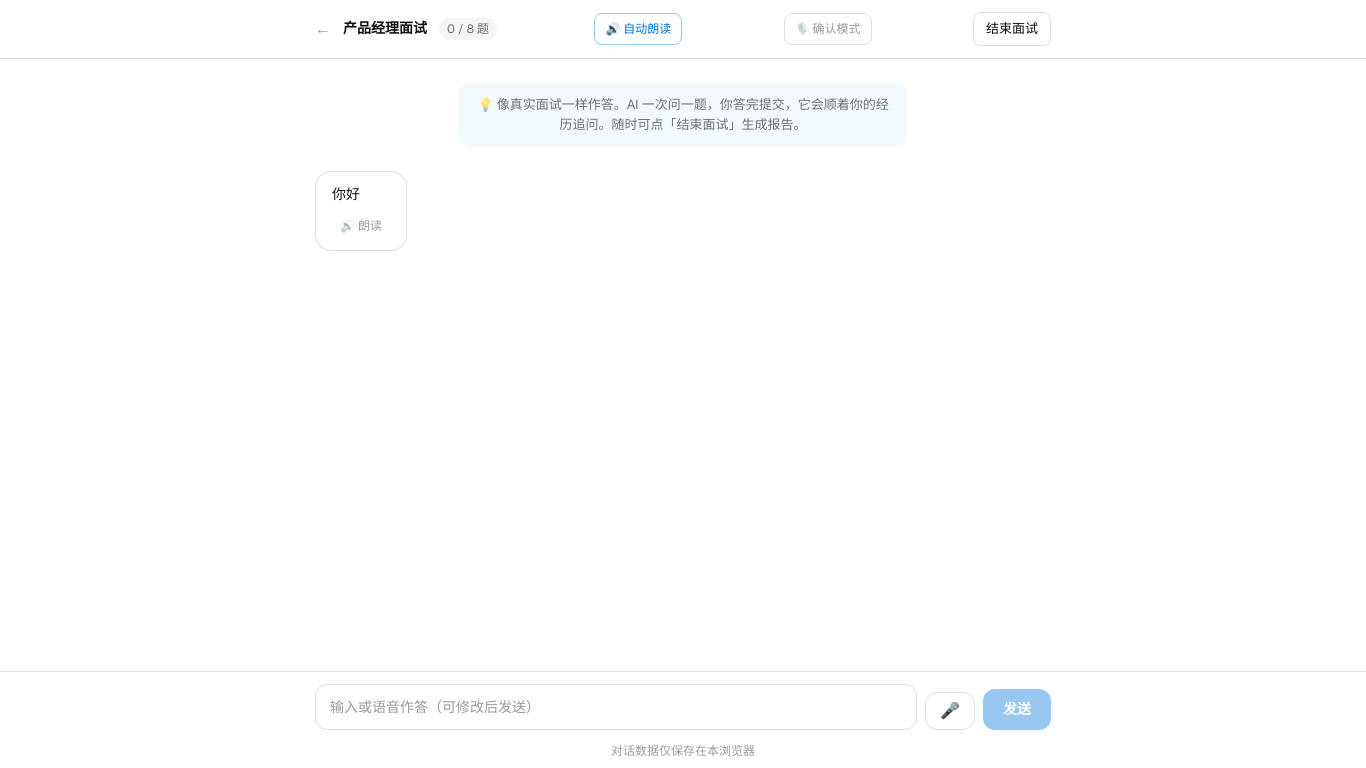
Test: InterviewPage › 语音识别失败（接口错误）→ notice 提示且不填入文本
Expected: the text "你好" is shown, x1=332 y1=184 x2=360 y2=202
Click the button with test id "mic-button": click(950, 711) x1=925 y1=692 x2=975 y2=730
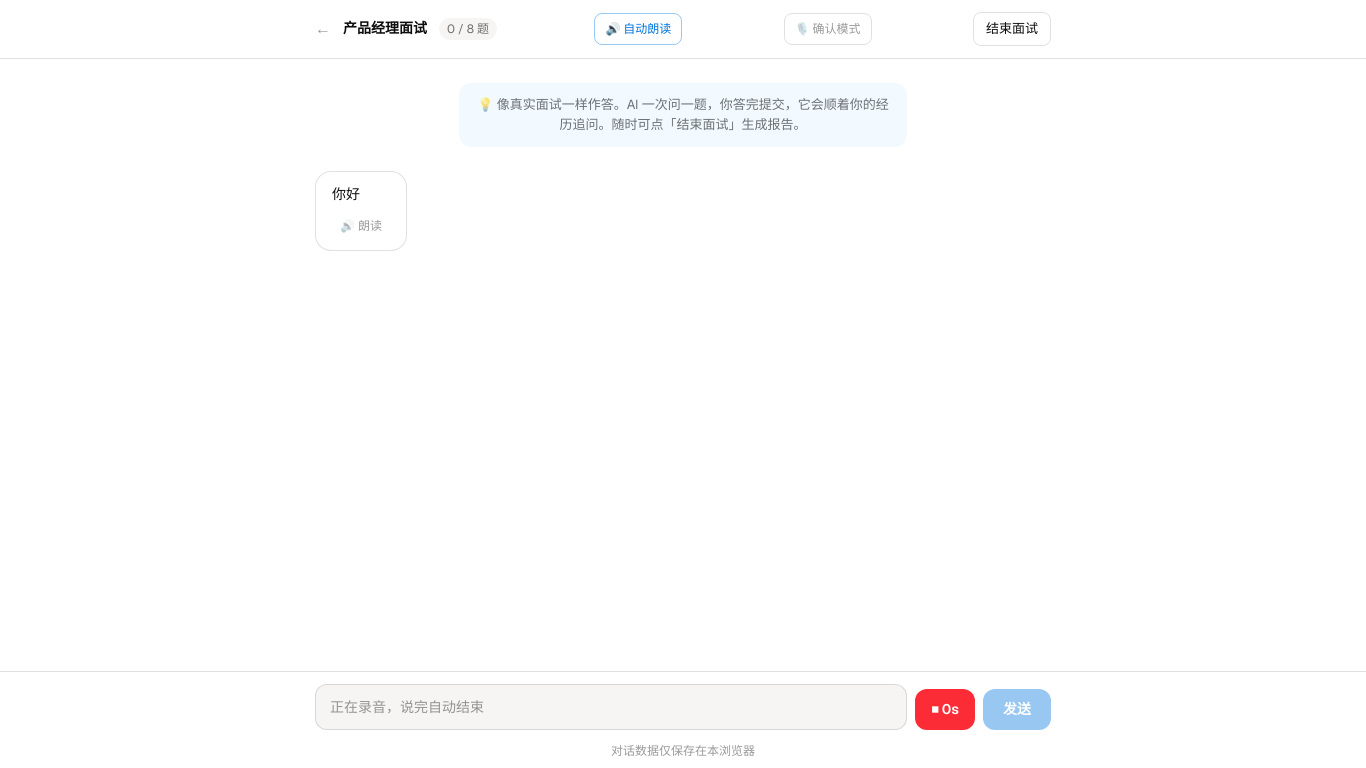
Click the button with test id "mic-stop-button": click(945, 710) x1=915 y1=689 x2=975 y2=730
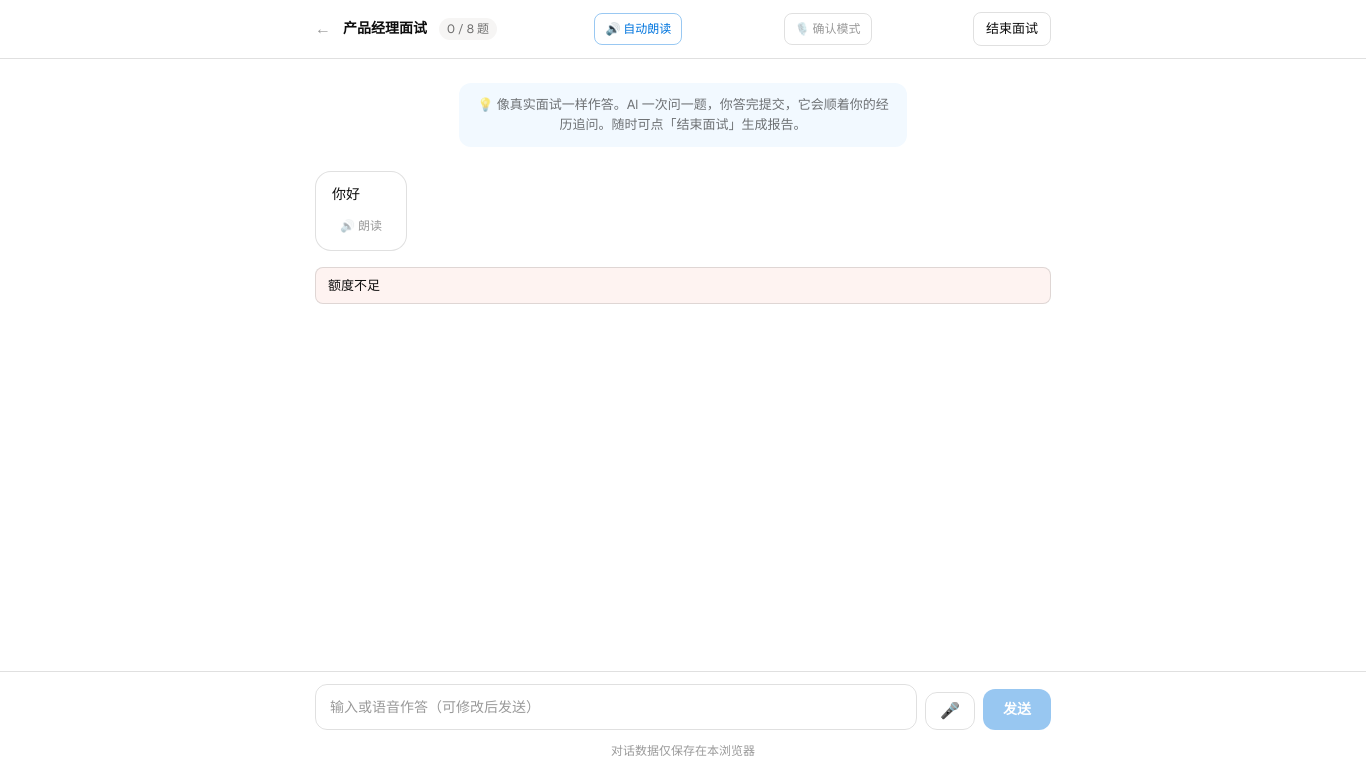
Expected: the text box with test id "answer-input" is empty, x1=315 y1=684 x2=917 y2=730
Now the text "额度不足" is shown, box x1=315 y1=266 x2=1051 y2=304
